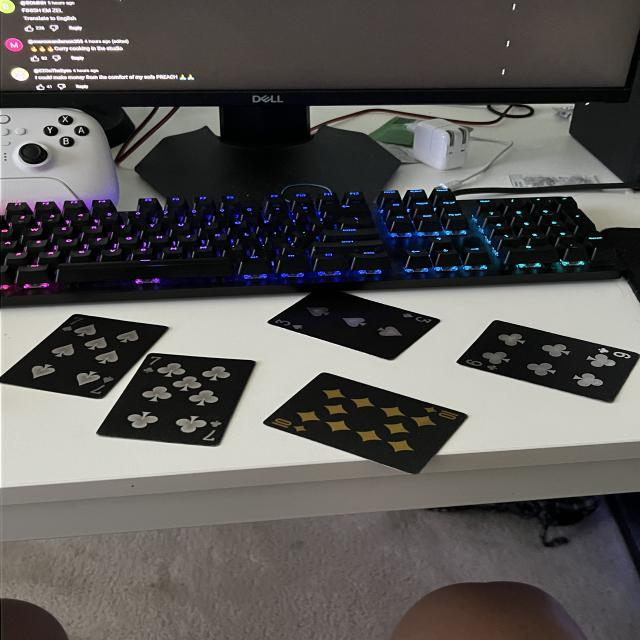10D: (424, 404, 461, 422), (268, 418, 307, 432)
3S: (271, 318, 307, 332), (399, 312, 433, 324)
6C: (465, 358, 499, 372), (596, 346, 632, 358)
7C: (200, 419, 223, 443), (141, 354, 163, 376)
7S: (87, 374, 118, 397), (63, 315, 83, 333)
